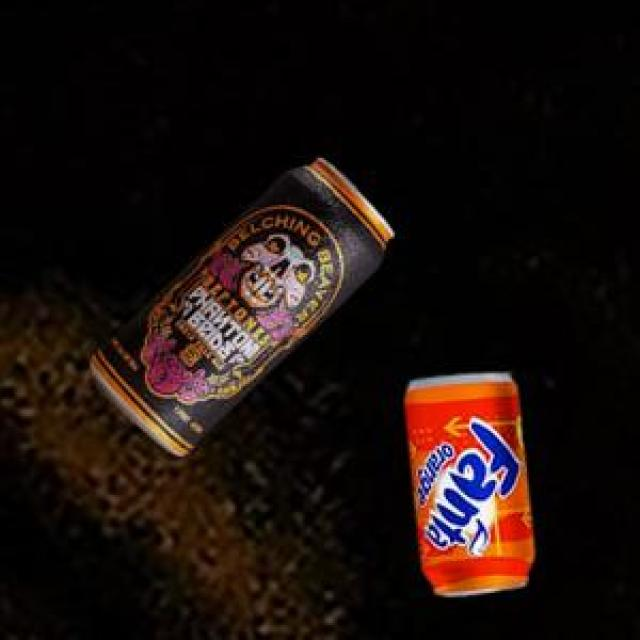logam: (89, 155, 391, 453), (402, 370, 530, 592)
